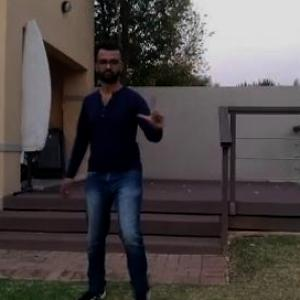land_hand: (132, 98, 166, 141)
